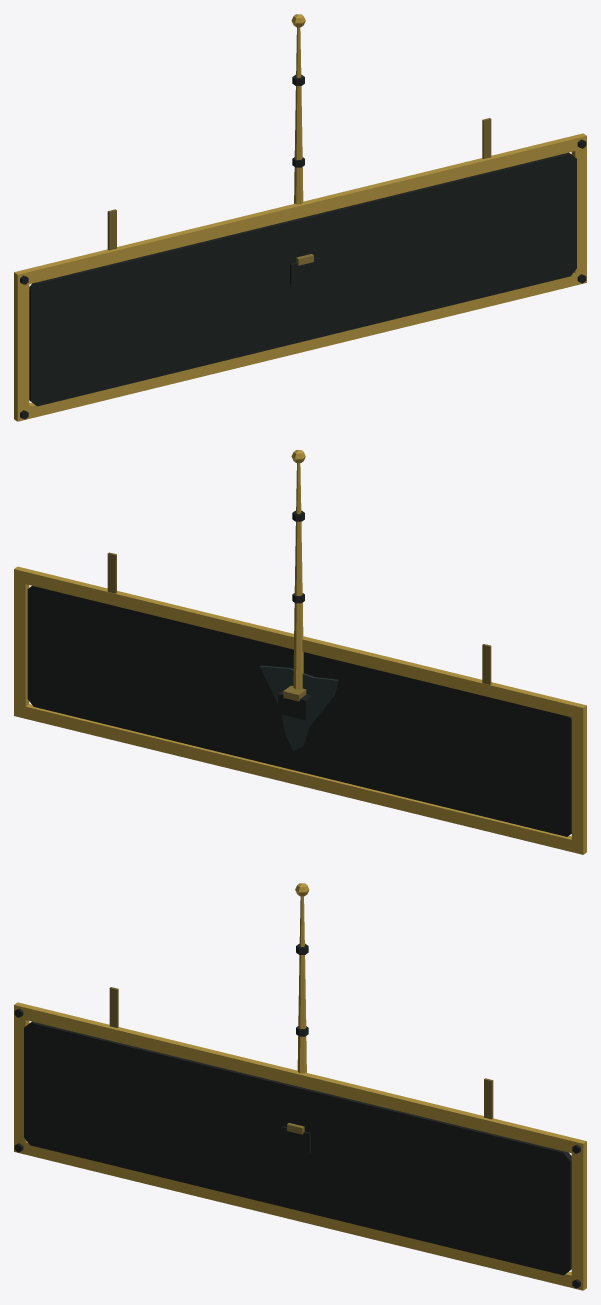
Rendered from find_kit.glb.
The picture shows the model from 3 angles, top to bottom: view 1: azimuth 30°, elevation 25°; view 2: azimuth 150°, elevation 25°; view 3: azimuth 330°, elevation 25°; orthographic projection.
Parts seen in each view (by area): view 1: FindBoard, FindBoardFrame, FindAerial; view 2: FindBoard, FindBoardFrame, FindAerial, FindSeep; view 3: FindBoard, FindBoardFrame, FindAerial.
Boxes of the visible parts, x1=… form: FindBoard: x1=29, y1=152, x2=576, y2=406; FindBoardFrame: x1=14, y1=118, x2=586, y2=421; FindAerial: x1=290, y1=14, x2=319, y2=284; FindBoard: x1=27, y1=586, x2=571, y2=836; FindBoardFrame: x1=14, y1=552, x2=586, y2=854; FindAerial: x1=278, y1=450, x2=312, y2=720; FindSeep: x1=260, y1=665, x2=338, y2=751; FindBoard: x1=24, y1=1021, x2=571, y2=1275; FindBoardFrame: x1=14, y1=987, x2=586, y2=1290; FindAerial: x1=281, y1=883, x2=310, y2=1153.
Size of the model in its own units: 7.3 by 4.11 by 0.34.
